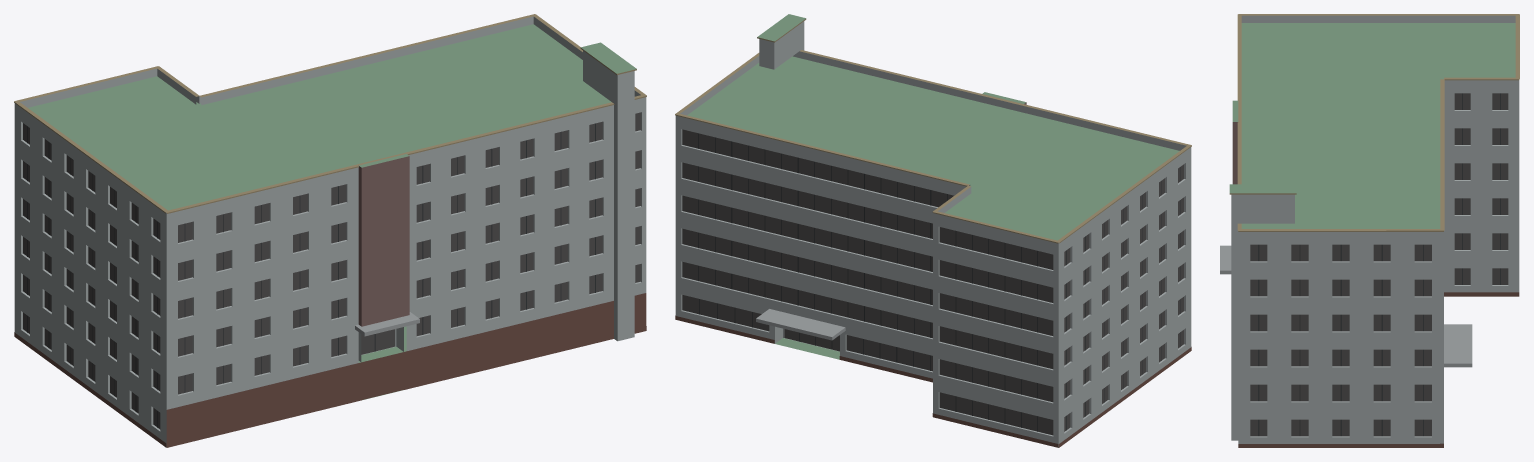
3 views of the same model, side by side, from view 1: azimuth 30°, elevation 25°; view 2: azimuth 150°, elevation 25°; view 3: azimuth 270°, elevation 25° (orthographic). The views are drawn at different scales.
Visible parts, largest first — view 1: future__wall, future__roof, future__glass, future__base, future__parapet, future__wall2, future__trim, future__frame, future__canopy; view 2: future__wall, future__roof, future__glass, future__parapet, future__trim, future__frame, future__base, future__canopy; view 3: future__wall, future__roof, future__glass, future__parapet, future__trim, future__canopy, future__base, future__frame, future__wall2.
Boxes of the visible parts, x1,y1,x2,y2 form: future__wall: (14,51,646,447); future__roof: (28,24,636,400); future__glass: (23,112,640,429); future__base: (14,293,646,447); future__parapet: (14,16,646,220); future__wall2: (358,156,409,326); future__trim: (14,14,646,213); future__frame: (27,123,595,427); future__canopy: (355,312,419,336); future__wall: (675,21,1191,447); future__roof: (687,14,1179,359); future__glass: (682,129,1183,435); future__parapet: (675,51,1191,249); future__trim: (675,19,1191,243); future__frame: (698,133,1180,431); future__base: (675,315,1191,447); future__canopy: (756,309,845,340); future__wall: (1231,86,1519,443); future__roof: (1229,23,1515,228); future__glass: (1250,93,1508,436); future__parapet: (1238,15,1519,237); future__trim: (1229,14,1519,231); future__canopy: (1220,245,1472,367); future__base: (1238,292,1519,447); future__frame: (1258,93,1500,436); future__wall2: (1232,122,1237,184).
Bounding box in the file's own units: 45.17 × 24.12 × 26.39.
